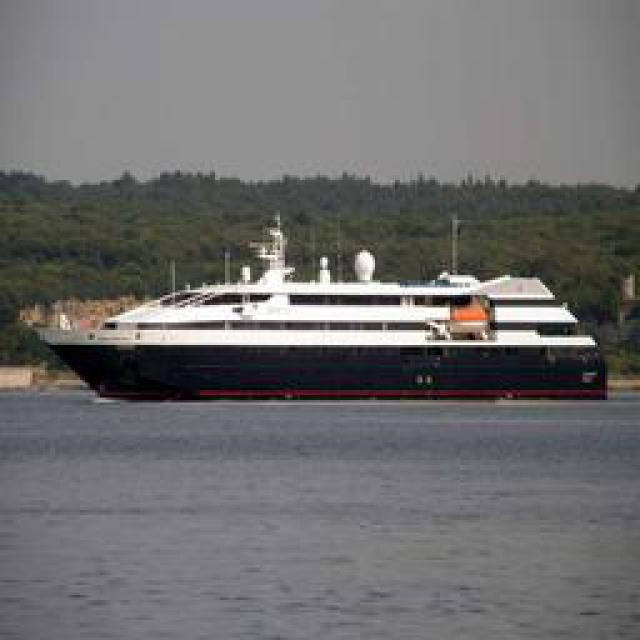Ship: (37, 231, 620, 401)
